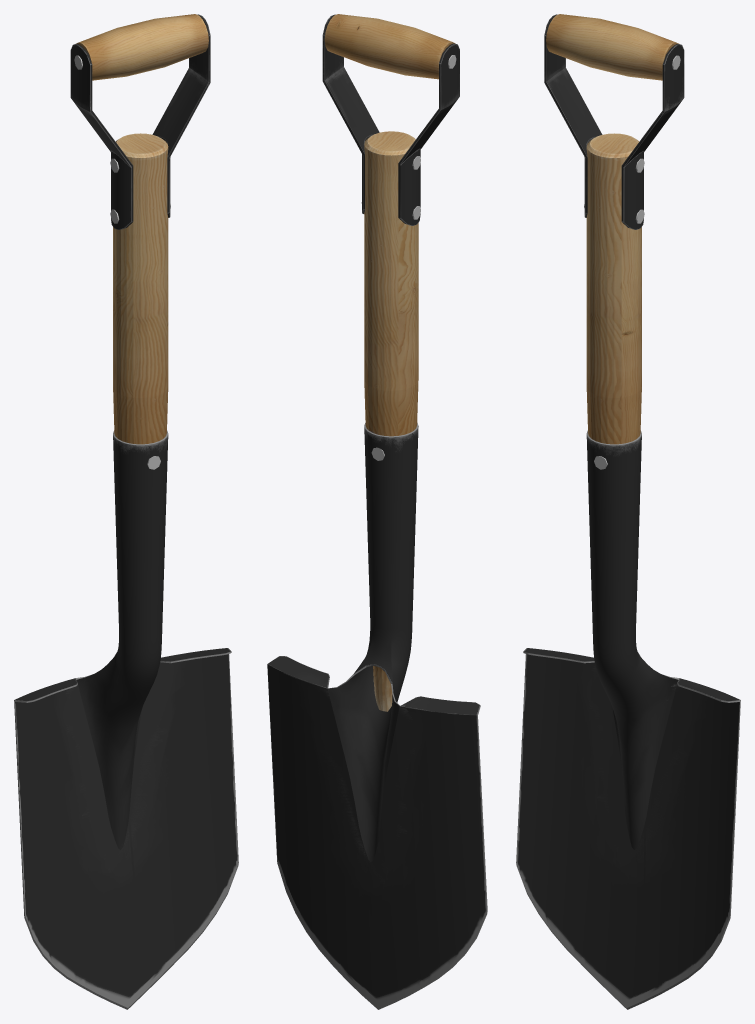
Rendered from shovel_03_midpoly.FBX.
The picture shows the model from 3 angles, left to right: view 1: azimuth 30°, elevation 25°; view 2: azimuth 150°, elevation 25°; view 3: azimuth 330°, elevation 25°; orthographic projection.
Parts seen in each view (by area): view 1: shovel_03_midpoly; view 2: shovel_03_midpoly; view 3: shovel_03_midpoly.
Boxes of the visible parts, bbox=[...] form: shovel_03_midpoly: bbox=[14, 14, 238, 1009]; shovel_03_midpoly: bbox=[267, 14, 487, 1009]; shovel_03_midpoly: bbox=[516, 14, 740, 1009].
Size of the model in its own units: 10.84 by 48.16 by 3.7.
